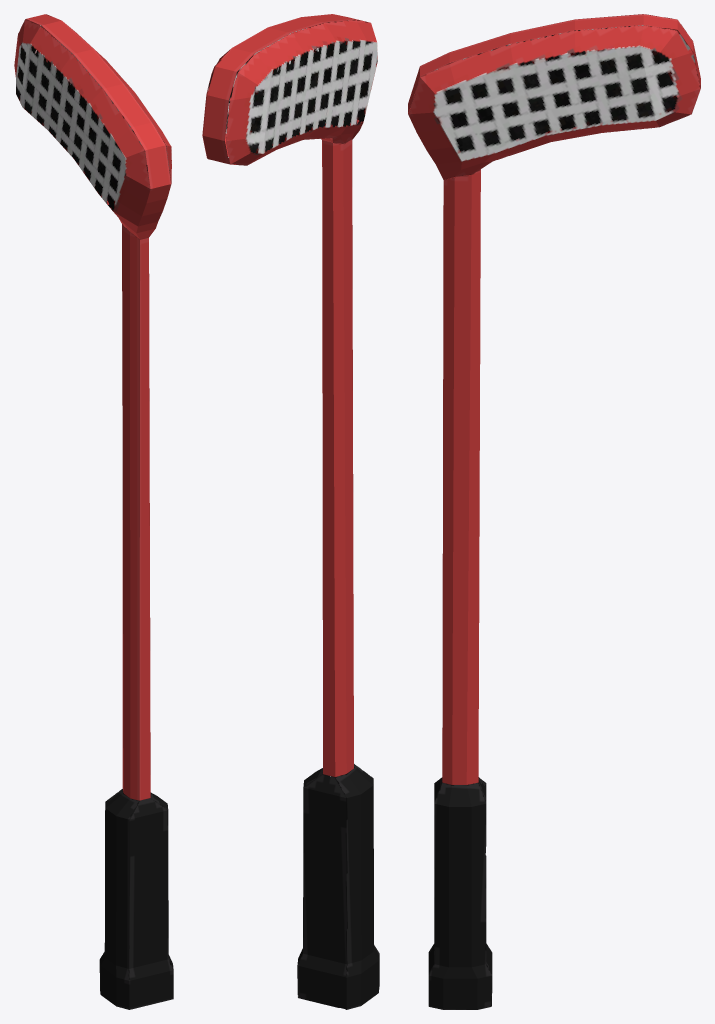
File: FloorballStick_Red.fbx
The picture shows the model from 3 angles, left to right: view 1: azimuth 30°, elevation 25°; view 2: azimuth 150°, elevation 25°; view 3: azimuth 270°, elevation 25°; orthographic projection. The views are drawn at different scales.
Visible parts, largest first — view 1: Cube.004; view 2: Cube.004; view 3: Cube.004.
Part boxes in pixels (x1=…): Cube.004: x1=14, y1=14, x2=173, y2=1009; Cube.004: x1=202, y1=14, x2=379, y2=1009; Cube.004: x1=408, y1=14, x2=700, y2=1009.
Size of the model in its own units: 9.98 by 153 by 41.63.
